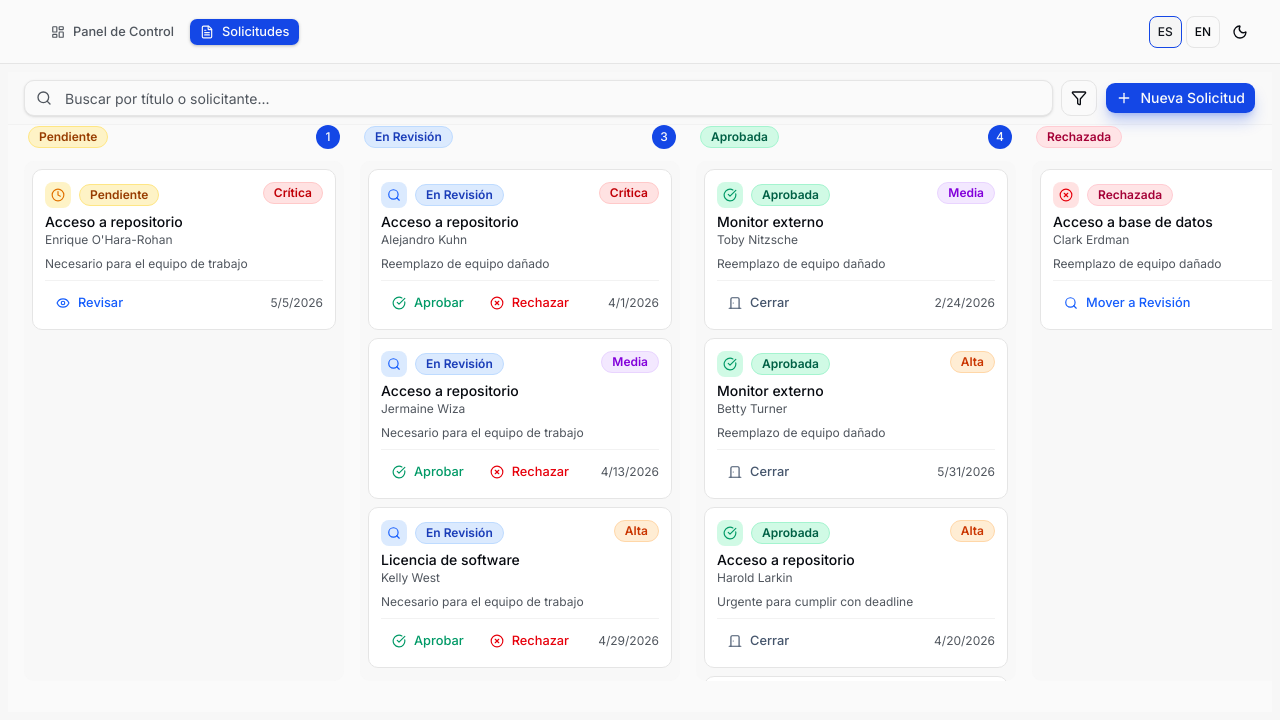
Scenario: Solicitud CRUD › Editar Solicitud › debería abrir el modal de edición desde la vista de detalle
What coordinates should you click on to do the following:
click the element with test id "kanban-card"
I would click on:
 (184, 250)
Its box is [32,169,336,330].
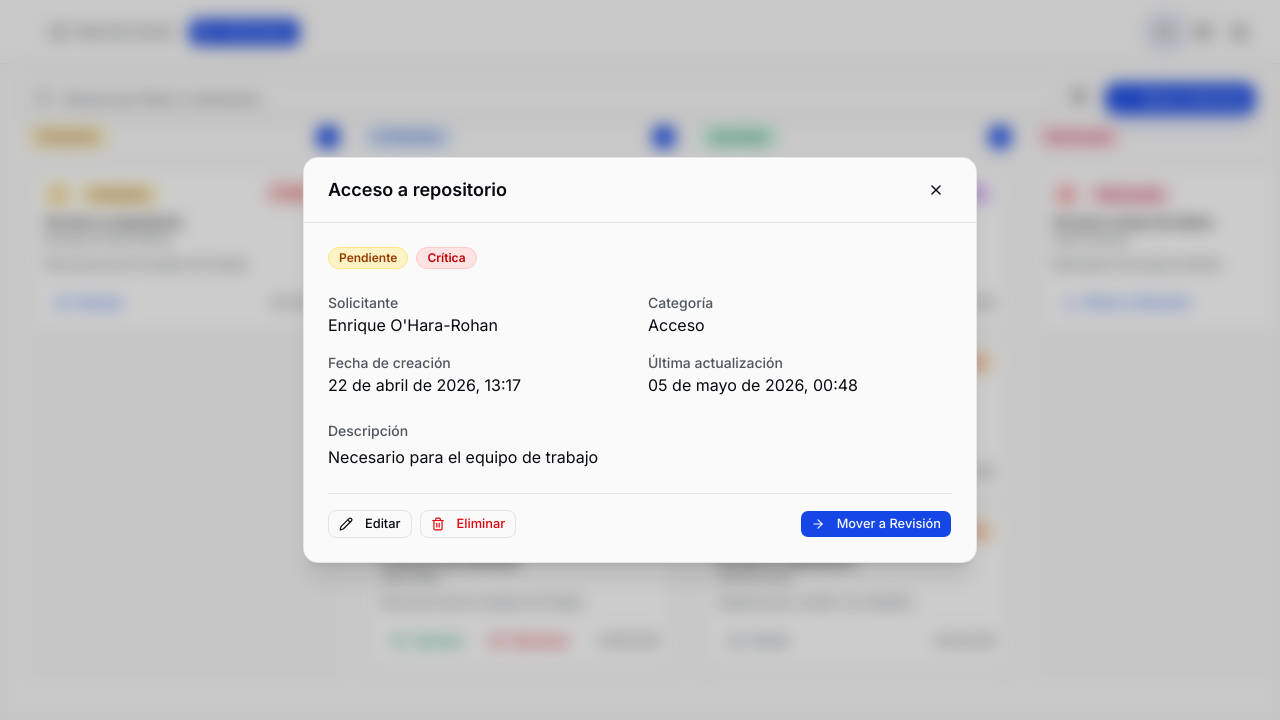
Result: the element with test id "solicitud-modal" is shown at [304,158,976,562]
What coordinates should you click on to do the following:
click the button "Editar"
I would click on:
 (370, 524)
Its box is [328,510,412,538].
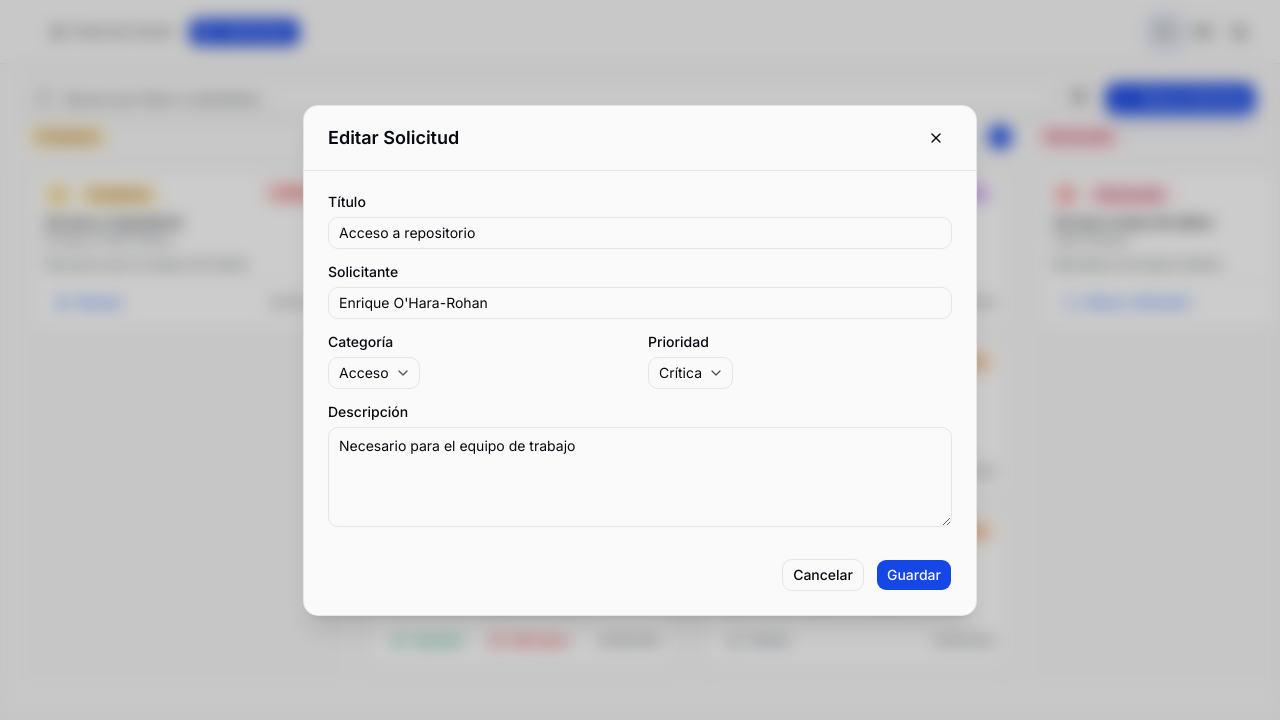
Result: the heading "Editar Solicitud" is shown at [328,124,459,152]
